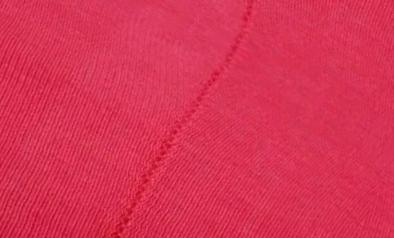slub: (109, 1, 257, 237)
